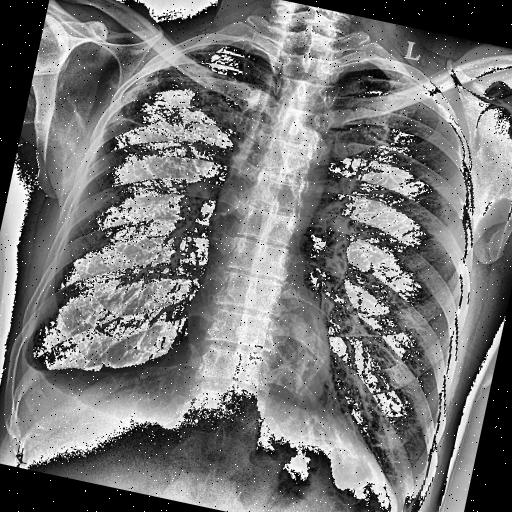10- Pleural effusion: (0, 326, 107, 426)
11- Pleural thickening: (4, 314, 202, 436), (84, 23, 210, 146)
13- Pulmonary fibrosis: (82, 20, 272, 175), (102, 15, 282, 167), (108, 32, 251, 174)
5- ILD: (82, 20, 272, 175)
